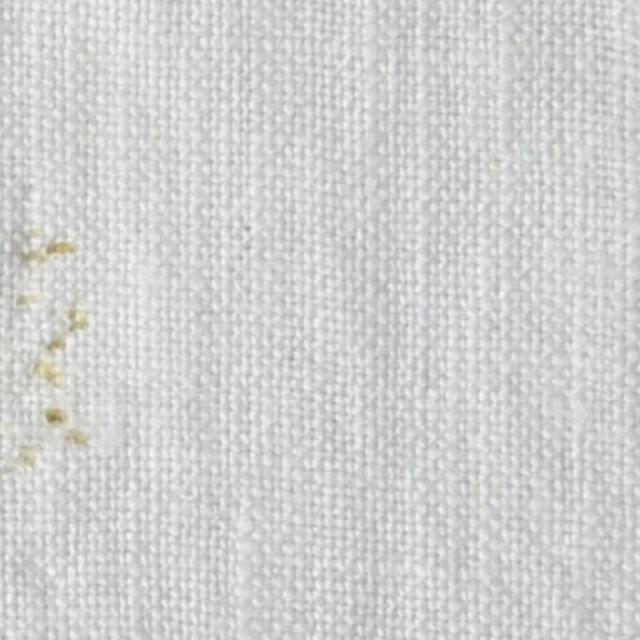Stain: (0, 232, 108, 470)
